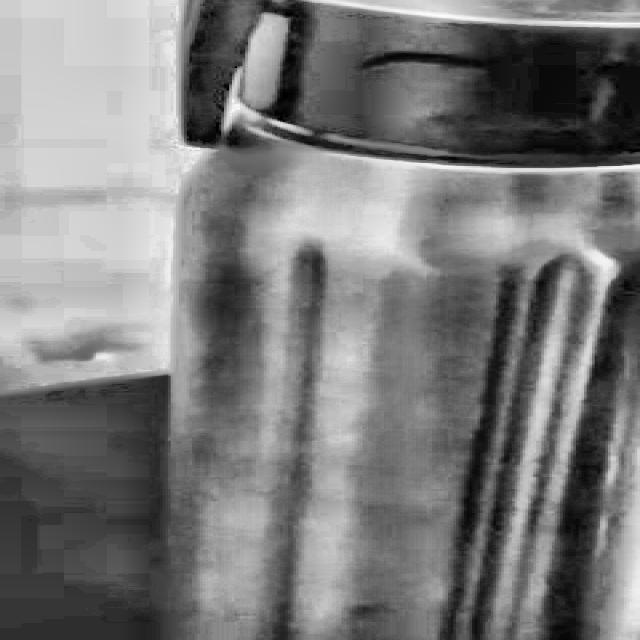bottle: (157, 0, 640, 640)
